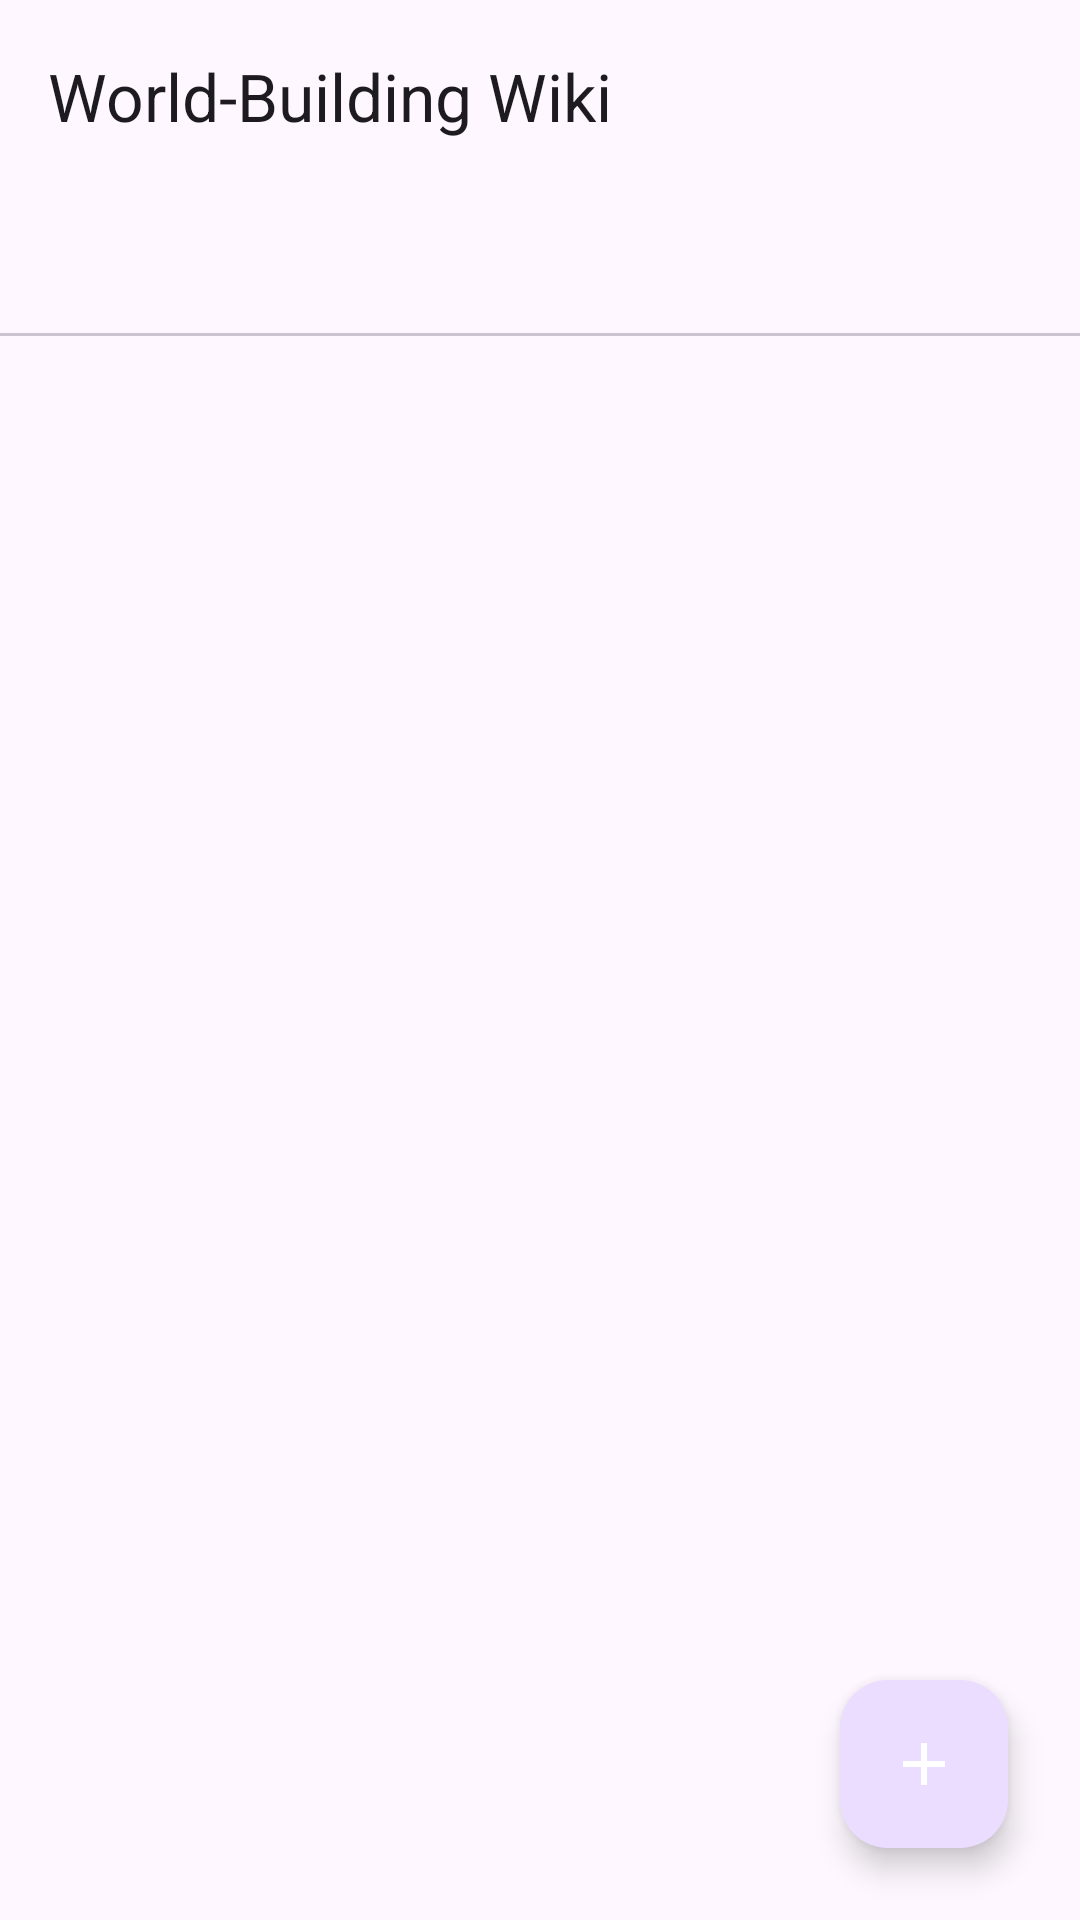

Screen size 1080x1920. Icon name, then its center in pixels as (x,y):
Tambah Entri Wiki Baru: (924,1764)
